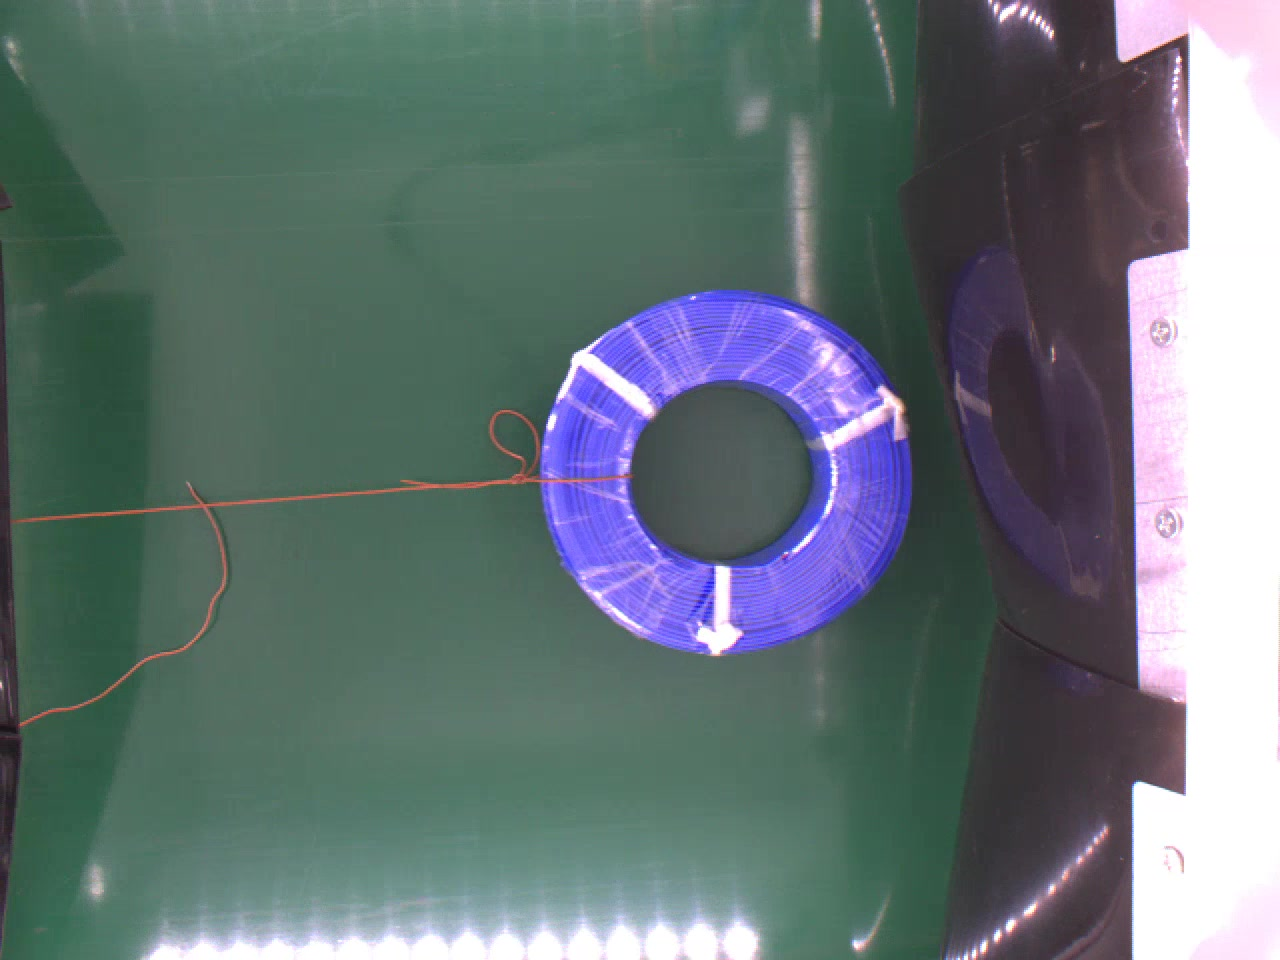blue: (535, 290, 916, 656)
